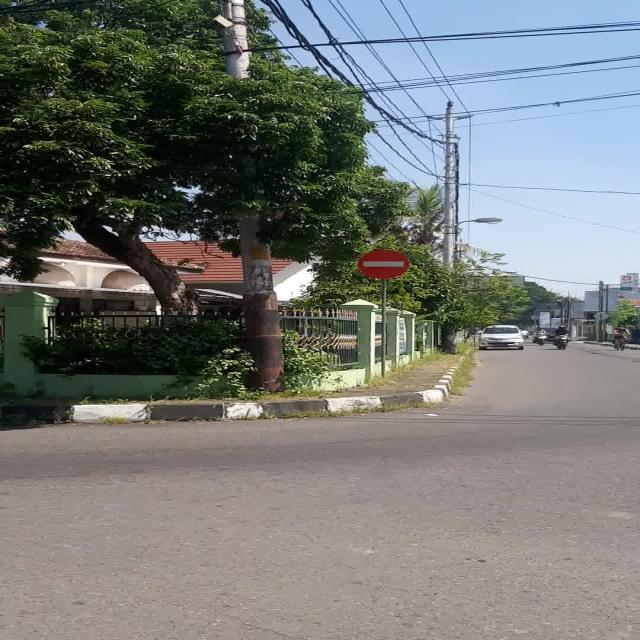Dilarang Masuk: (358, 249, 408, 279)
